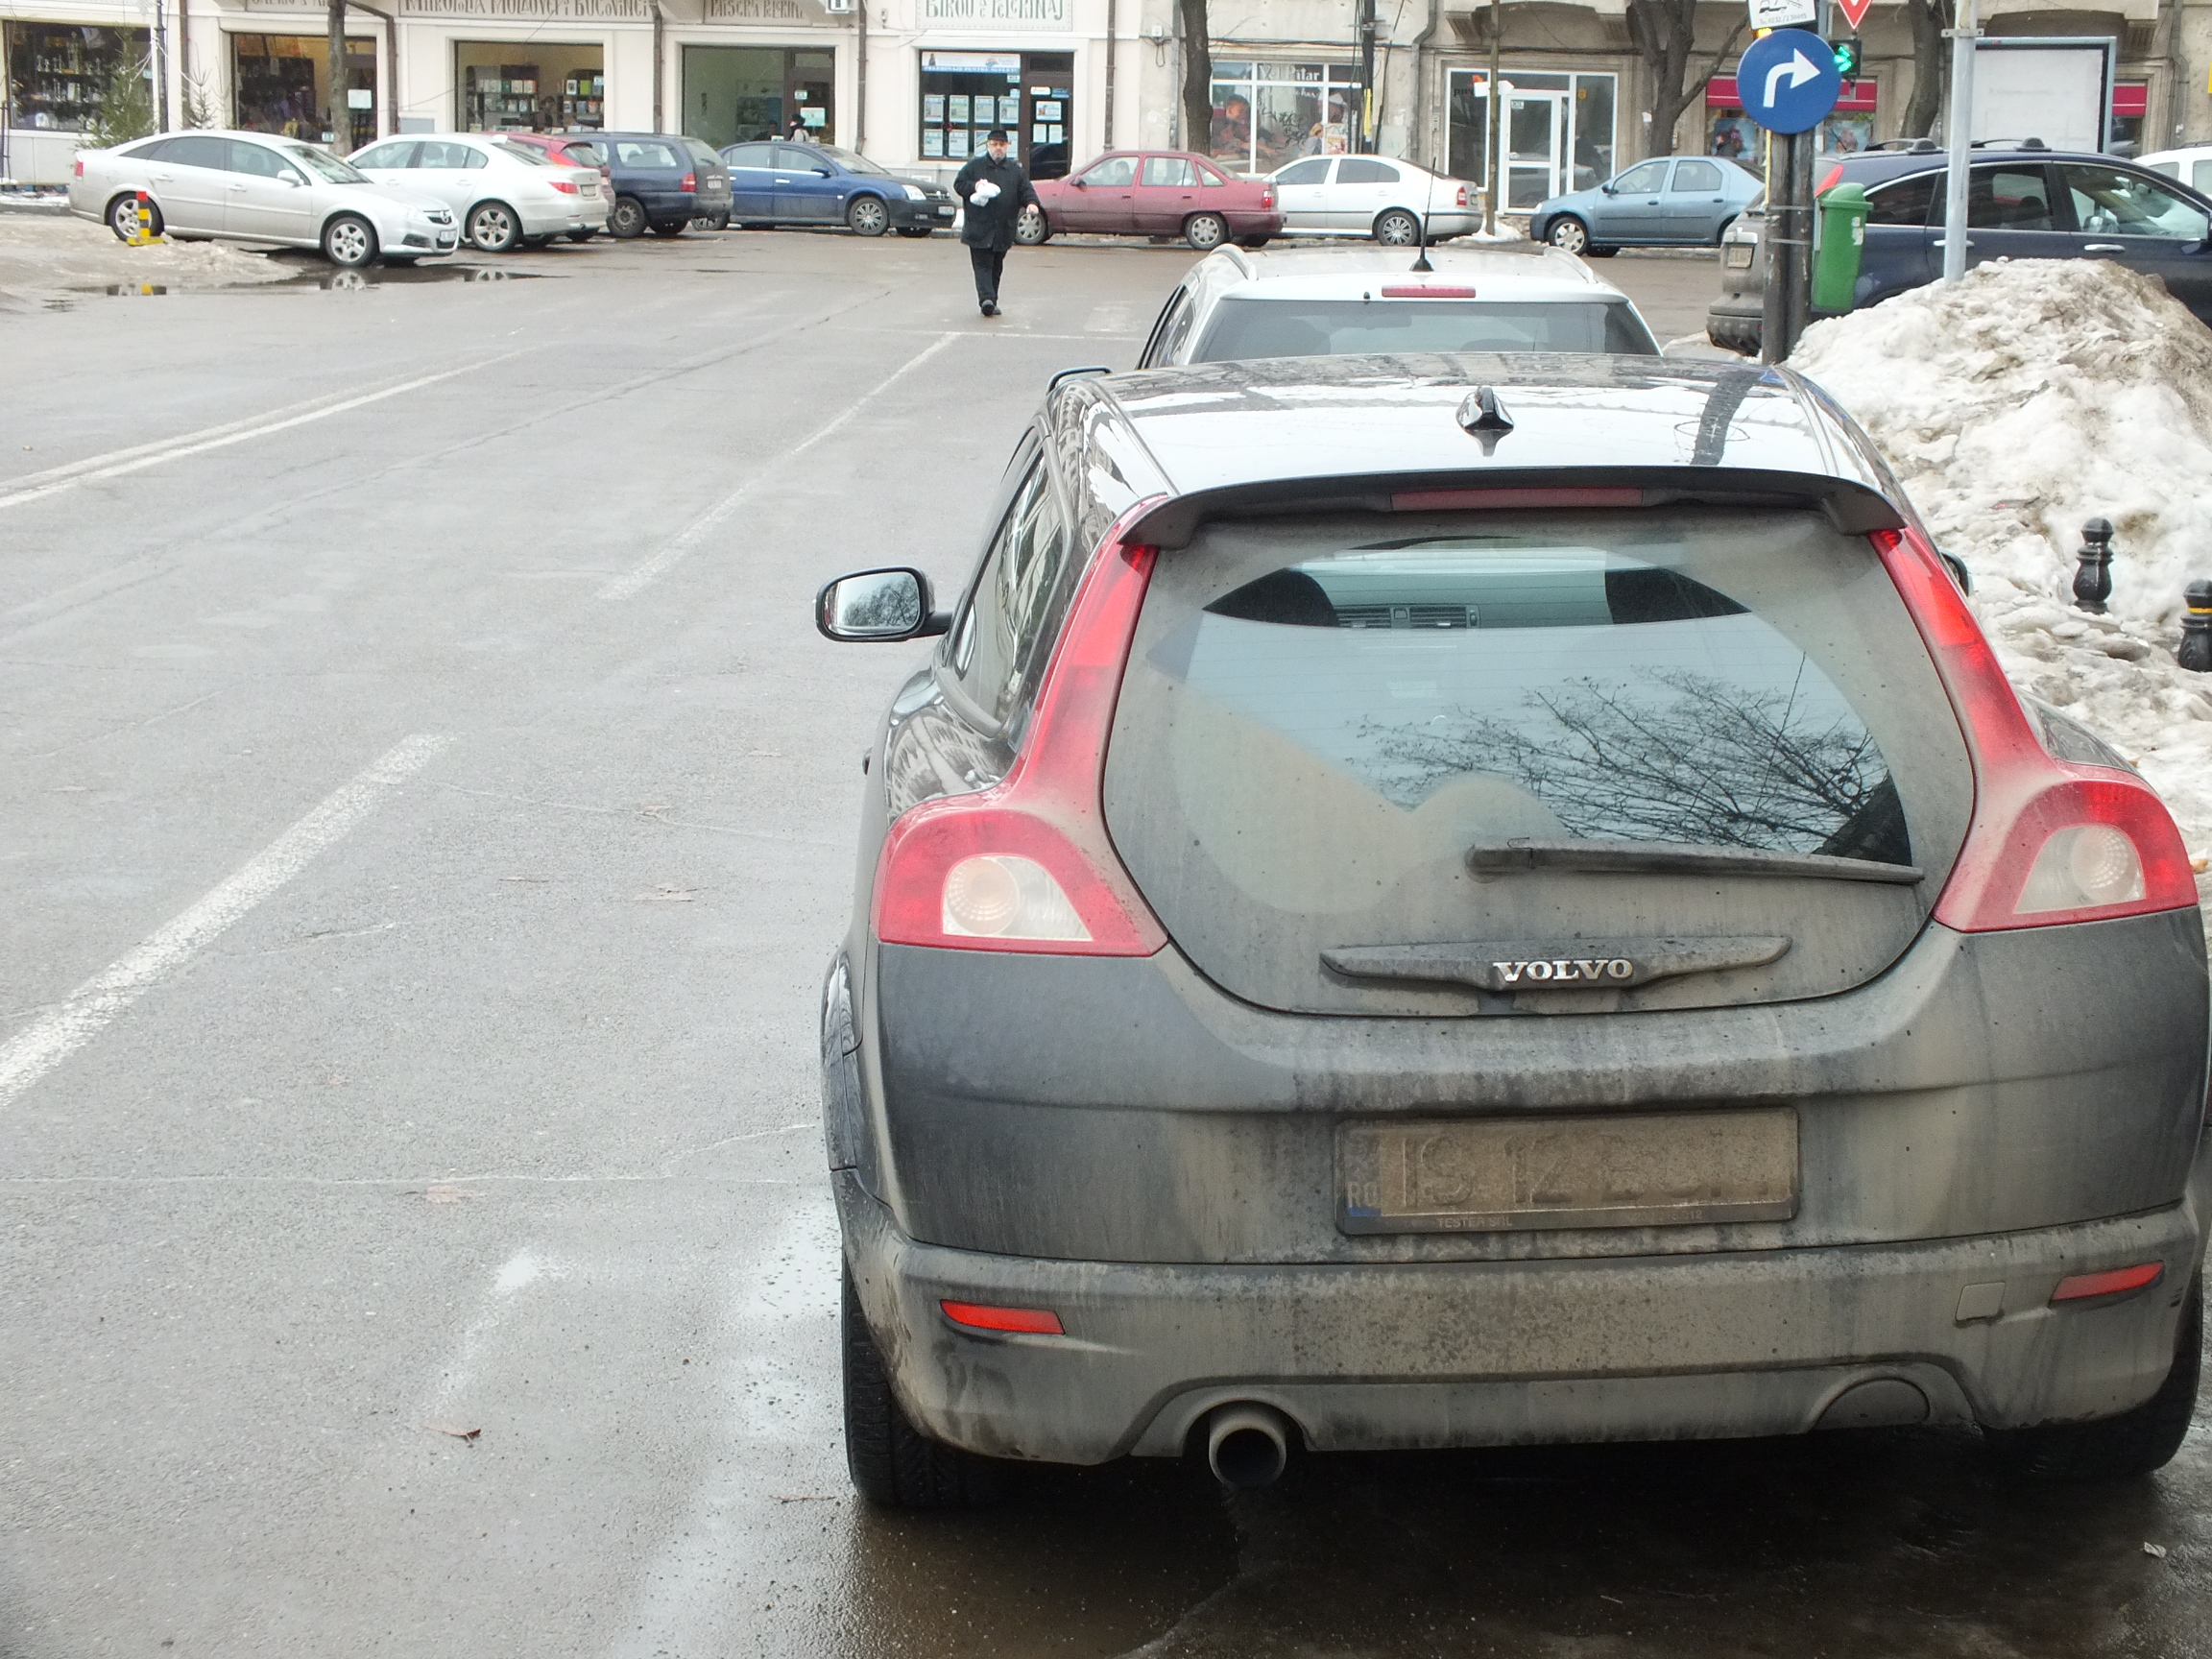1912BG14: (1344, 1098, 1800, 1241)
